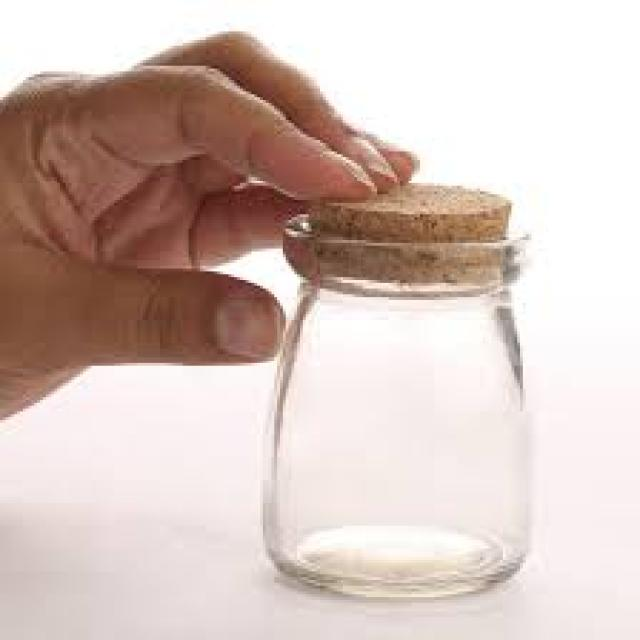glass: (260, 263, 526, 597)
